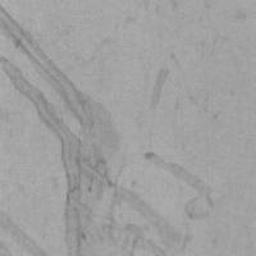Water spot: (0, 1, 216, 256), (0, 237, 17, 256)
